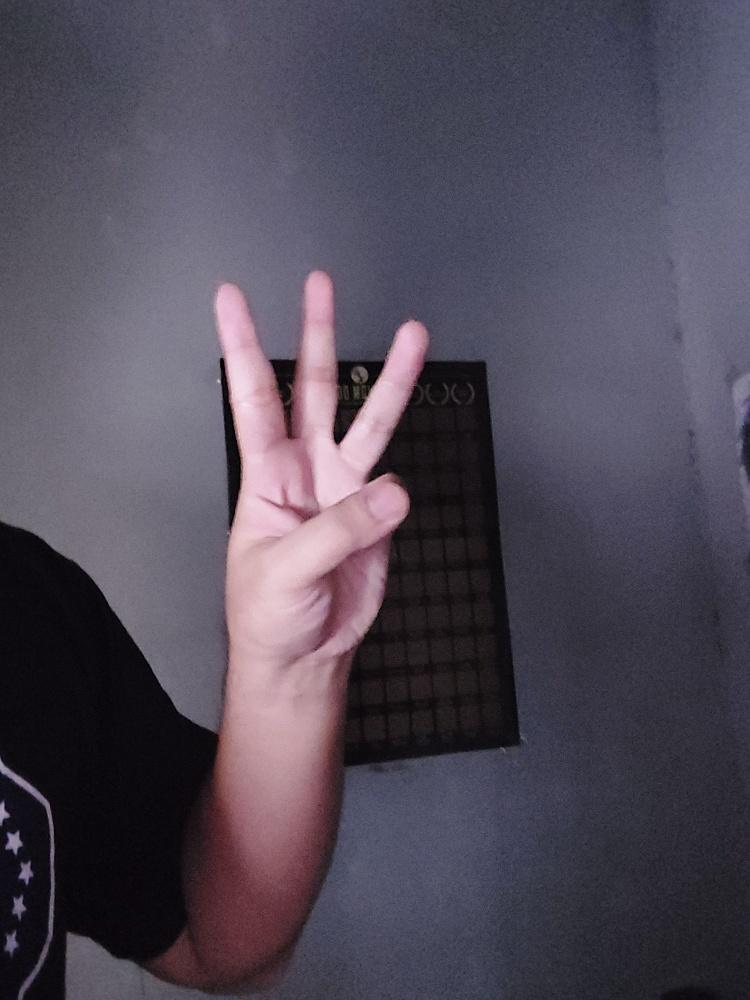w: (209, 267, 429, 652)
